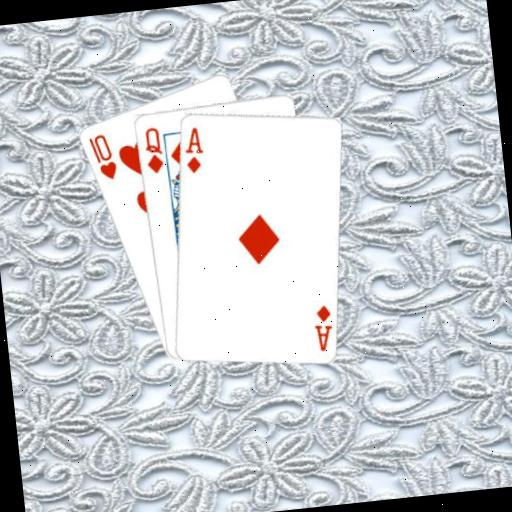10H: (84, 130, 119, 183)
AD: (309, 301, 337, 353), (180, 123, 207, 175)
QD: (140, 123, 167, 175)
